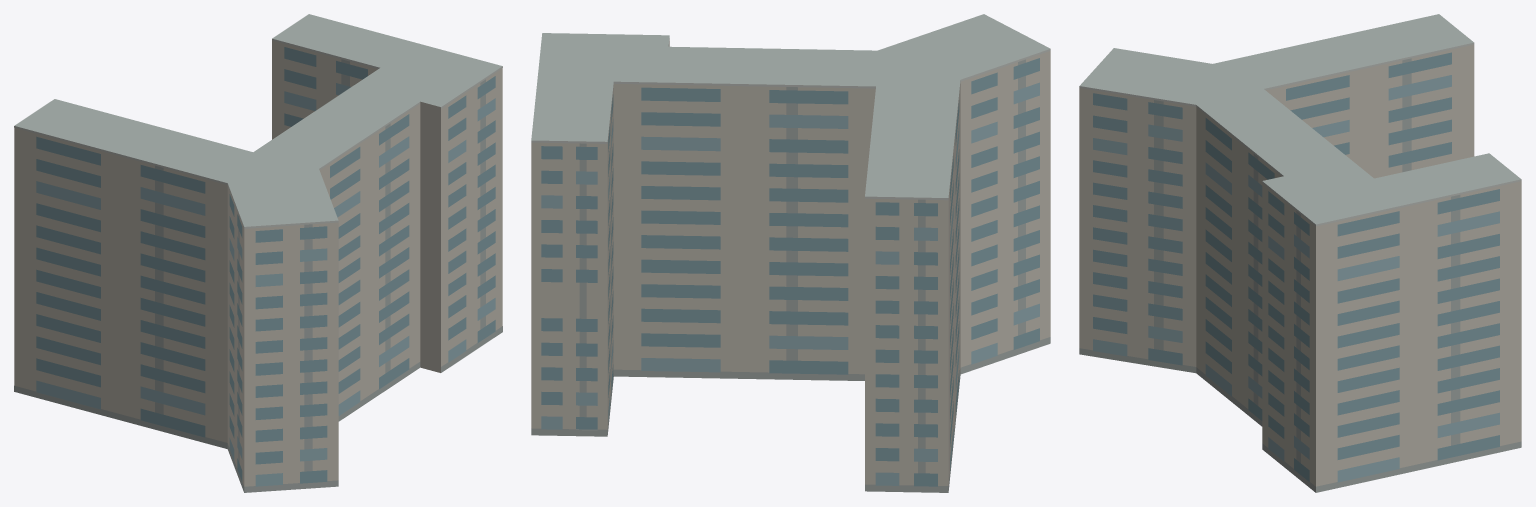
The model's file is residential-0be13a1e-a1e4-4d98-86f4-116e772b2853.glb.
3 views of the same model, side by side, from view 1: azimuth 30°, elevation 25°; view 2: azimuth 150°, elevation 25°; view 3: azimuth 270°, elevation 25° (orthographic). The views are drawn at different scales.
Parts seen in each view (by area): view 1: residential-0be13a1e-a1e4-4d98-86f4-116e772b2853.tmp; view 2: residential-0be13a1e-a1e4-4d98-86f4-116e772b2853.tmp; view 3: residential-0be13a1e-a1e4-4d98-86f4-116e772b2853.tmp.
Boxes of the visible parts, left/top/right/bottom form: residential-0be13a1e-a1e4-4d98-86f4-116e772b2853.tmp: left=14, top=14, right=502, bottom=492; residential-0be13a1e-a1e4-4d98-86f4-116e772b2853.tmp: left=531, top=14, right=1050, bottom=492; residential-0be13a1e-a1e4-4d98-86f4-116e772b2853.tmp: left=1079, top=14, right=1521, bottom=492.
Bounding box in the file's own units: 57.21 × 34 × 50.76.
